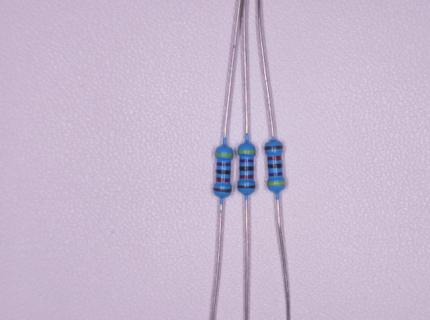Black band: (217, 169, 231, 175), (240, 166, 254, 171), (268, 164, 282, 169)
Brown band: (214, 187, 232, 193), (237, 185, 256, 189), (264, 146, 283, 150)
Red band: (216, 177, 231, 182), (267, 156, 282, 161), (239, 175, 254, 179)
Violet band: (268, 172, 283, 177), (239, 159, 254, 163), (217, 162, 231, 166)
Yellow band: (215, 153, 234, 157), (267, 181, 285, 185), (238, 150, 256, 153)
